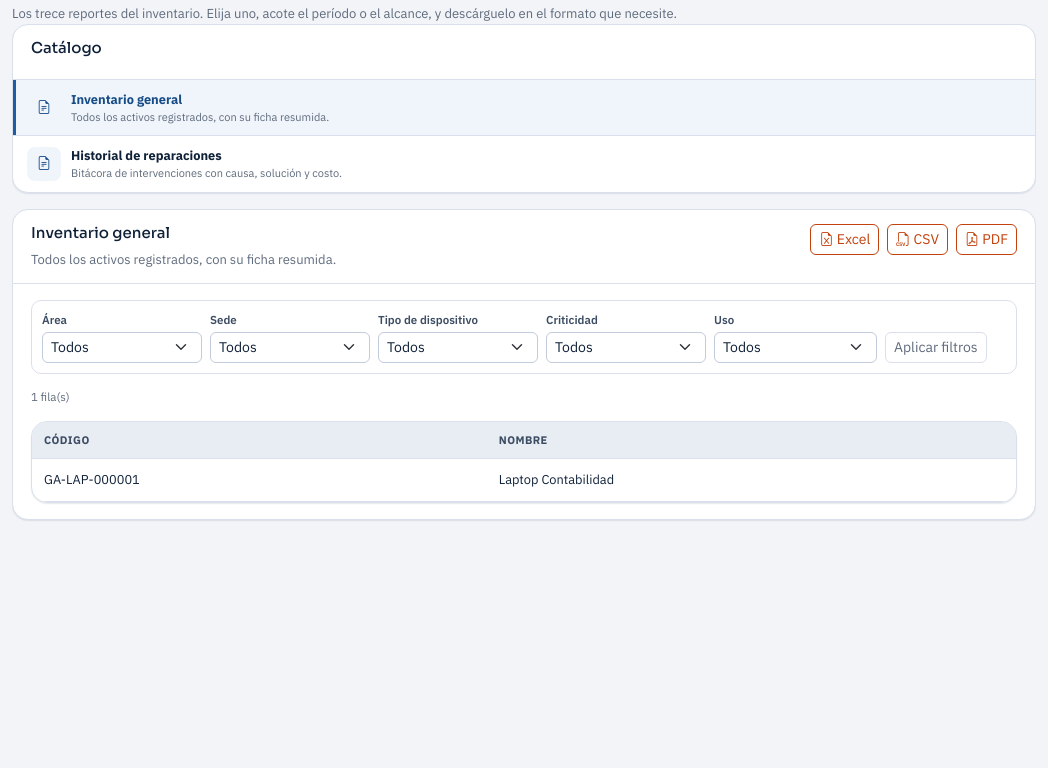
Test case: Pantalla de reportes › dibuja los filtros que declara cada reporte
Expected: the text "Criticidad" is shown, [546,312,598,327]
Expected: the text "Desde" is not shown
Click the text "Historial de reparaciones" at (146, 156), box [71,147,222,164]
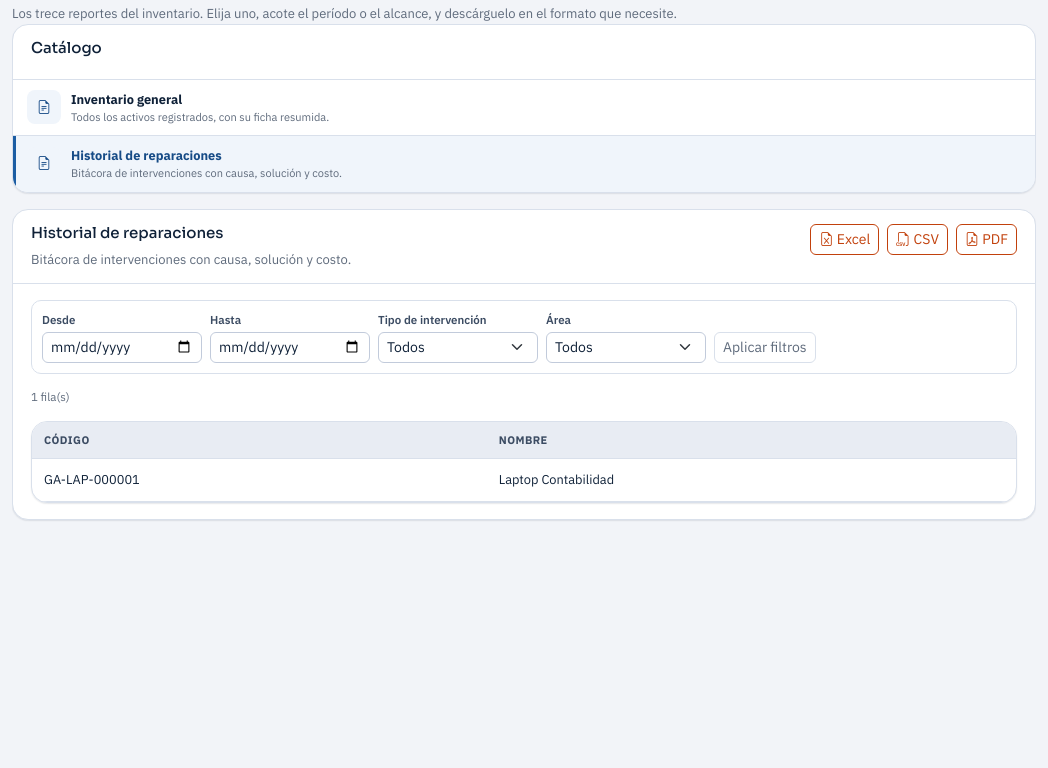
Result: the text "Desde" is shown at [42,312,75,327]
Result: the text "Tipo de intervención" is shown at [378,312,487,327]
